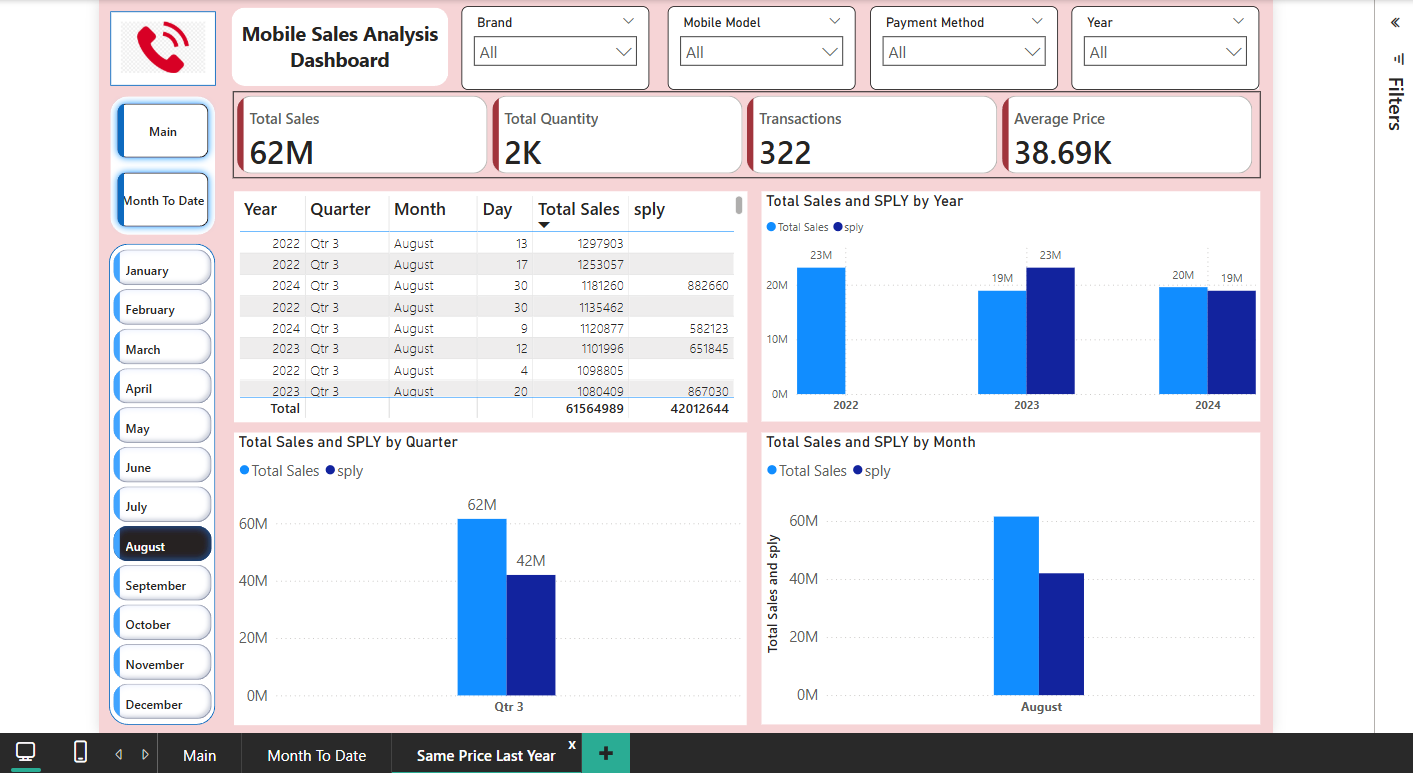

The dashboard page shown, as its layout file describes it:
{"tool":"powerbi","page":{"name":"Same Price Last Year","canvas":[1280,800],"ordinal":2},"visuals":[{"type":"shape","box":[11.9,11.9,115.3,81.4],"z":0},{"type":"image","box":[18.6,16.9,101.7,71.2],"z":1000},{"type":"shape","box":[12.3,105,114.5,151.3],"z":2000},{"type":"cardVisual","fields":{"Data":["Sheet1.Total Sales","Sheet1.Total Quantity","Sheet1.Transactions","Sheet1.Average Price"]},"box":[146,99.4,1120.3,95.7],"z":3000},{"type":"slicer","fields":{"Values":["Sheet1.Brand"]},"box":[394.9,6.8,205.1,91.5],"z":4000},{"type":"slicer","fields":{"Values":["Sheet1.Mobile Model"]},"box":[620.3,6.8,205.1,91.5],"z":5000},{"type":"slicer","fields":{"Values":["Sheet1.Payment Method"]},"box":[840.7,6.8,205.1,91.5],"z":6000},{"type":"slicer","fields":{"Values":["Query1.DATE.Variation.Date Hierarchy.Year","Query1.DATE.Variation.Date Hierarchy.Quarter","Query1.DATE.Variation.Date Hierarchy.Month","Query1.DATE.Variation.Date Hierarchy.Day"]},"box":[1061,6.8,205.1,91.5],"z":7000},{"type":"shape","box":[144.9,8.2,236.7,85.7],"z":8000},{"type":"textbox","box":[150,16.4,225,69.5],"z":9000},{"type":"tableEx","fields":{"Values":["Query1.DATE.Variation.Date Hierarchy.Year","Query1.DATE.Variation.Date Hierarchy.Quarter","Query1.DATE.Variation.Date Hierarchy.Month","Query1.DATE.Variation.Date Hierarchy.Day","Sheet1.Total Sales","Sheet1.sply"]},"box":[146.7,208,560,252],"z":10000},{"type":"clusteredColumnChart","title":"Total Sales and SPLY by Year","fields":{"Category":["Query1.DATE.Variation.Date Hierarchy.Year","Query1.DATE.Variation.Date Hierarchy.Quarter","Query1.DATE.Variation.Date Hierarchy.Month","Query1.DATE.Variation.Date Hierarchy.Day"],"Y":["Sheet1.Total Sales","Sheet1.sply"]},"box":[722.9,208.6,544.3,251.4],"z":11000},{"type":"clusteredColumnChart","title":"Total Sales and SPLY by Month","fields":{"Category":["Query1.DATE.Variation.Date Hierarchy.Year","Query1.DATE.Variation.Date Hierarchy.Quarter","Query1.DATE.Variation.Date Hierarchy.Month","Query1.DATE.Variation.Date Hierarchy.Day"],"Y":["Sheet1.Total Sales","Sheet1.sply"]},"box":[722.7,472,544,318.7],"z":12000},{"type":"clusteredColumnChart","title":"Total Sales and SPLY by Quarter","fields":{"Y":["Sheet1.Total Sales","Sheet1.sply"],"Category":["Query1.DATE.Variation.Date Hierarchy.Quarter"]},"box":[147.2,471.7,559,319],"z":13000},{"type":"pageNavigator","box":[12.3,105,115.9,151.3],"z":14000},{"type":"shape","box":[10.9,265.9,115.9,524.9],"z":15000},{"type":"advancedSlicerVisual","fields":{"Values":["Query1.DATE.Variation.Date Hierarchy.Month"]},"box":[10.9,267.2,117.2,523.5],"z":16000}]}

Visuals, with their boxes on the page's 1280x800 design canvas (x1, y1, x2, y2). These are canvas units, not pixel positions in the 1413x773 screenshot, which may show the page scaled, cropped or inside an application window:
shape: bbox=(12, 12, 127, 93)
image: bbox=(19, 17, 120, 88)
shape: bbox=(12, 105, 127, 256)
cardVisual - Sheet1.Total Sales x Sheet1.Total Quantity: bbox=(146, 99, 1266, 195)
slicer - Sheet1.Brand: bbox=(395, 7, 600, 98)
slicer - Sheet1.Mobile Model: bbox=(620, 7, 825, 98)
slicer - Sheet1.Payment Method: bbox=(841, 7, 1046, 98)
slicer - Query1.DATE.Variation.Date Hierarchy.Year x Query1.DATE.Variation.Date Hierarchy.Quarter: bbox=(1061, 7, 1266, 98)
shape: bbox=(145, 8, 382, 94)
textbox: bbox=(150, 16, 375, 86)
tableEx - Query1.DATE.Variation.Date Hierarchy.Year x Query1.DATE.Variation.Date Hierarchy.Quarter: bbox=(147, 208, 707, 460)
"Total Sales and SPLY by Year" clusteredColumnChart: bbox=(723, 209, 1267, 460)
"Total Sales and SPLY by Month" clusteredColumnChart: bbox=(723, 472, 1267, 791)
"Total Sales and SPLY by Quarter" clusteredColumnChart: bbox=(147, 472, 706, 791)
pageNavigator: bbox=(12, 105, 128, 256)
shape: bbox=(11, 266, 127, 791)
advancedSlicerVisual - Query1.DATE.Variation.Date Hierarchy.Month: bbox=(11, 267, 128, 791)
